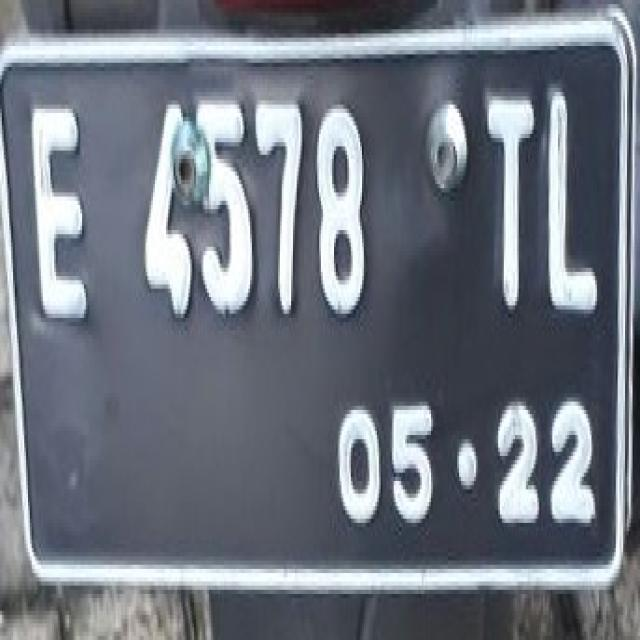plate: (0, 25, 631, 586)
